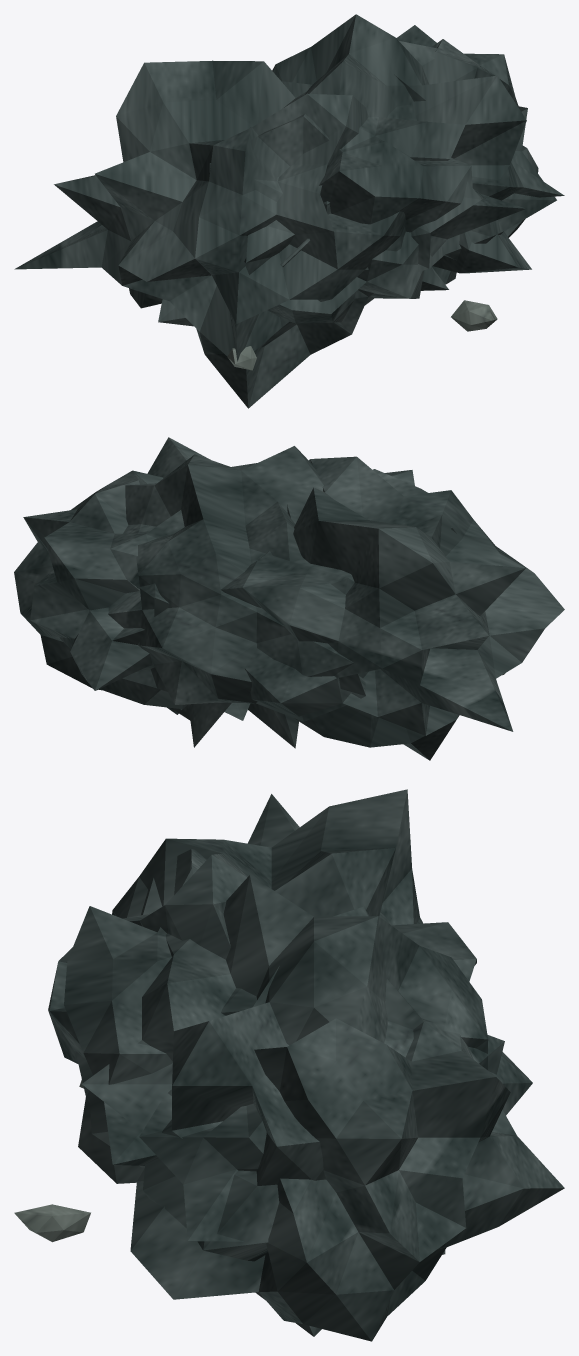
The model's file is 0022_boulder_22.glb.
3 views of the same model, one above another, from view 1: azimuth 30°, elevation 25°; view 2: azimuth 150°, elevation 25°; view 3: azimuth 270°, elevation 25° (orthographic). The views are drawn at different scales.
Parts seen in each view (by area): view 1: stone_dark, stone; view 2: stone_dark; view 3: stone_dark, stone.
Part boxes in pixels (left/top/right/bottom): stone_dark: left=14, top=14, right=564, bottom=408; stone: left=227, top=300, right=497, bottom=370; stone_dark: left=14, top=437, right=564, bottom=760; stone_dark: left=48, top=789, right=564, bottom=1341; stone: left=14, top=1079, right=90, bottom=1242.
Size of the model in its own units: 3.66 by 2.1 by 2.49.
Materials: 2 (2 with a texture image).
